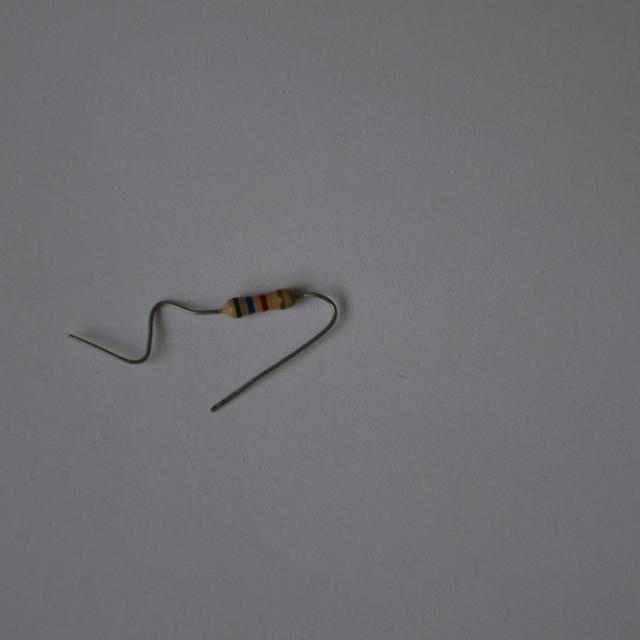blue: (246, 296, 252, 313)
gold: (277, 290, 283, 306)
green: (234, 298, 239, 315)
red: (261, 293, 267, 309)
resistor: (224, 284, 300, 323)
